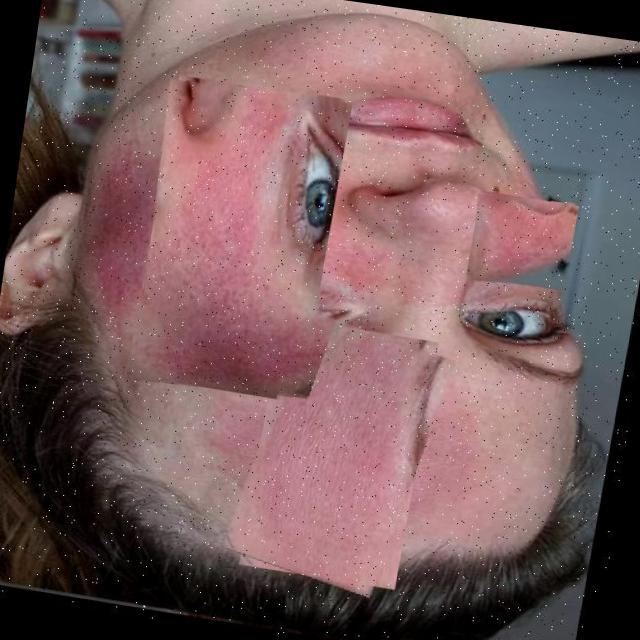redness: (144, 89, 319, 389), (263, 327, 407, 587), (480, 195, 573, 283)
